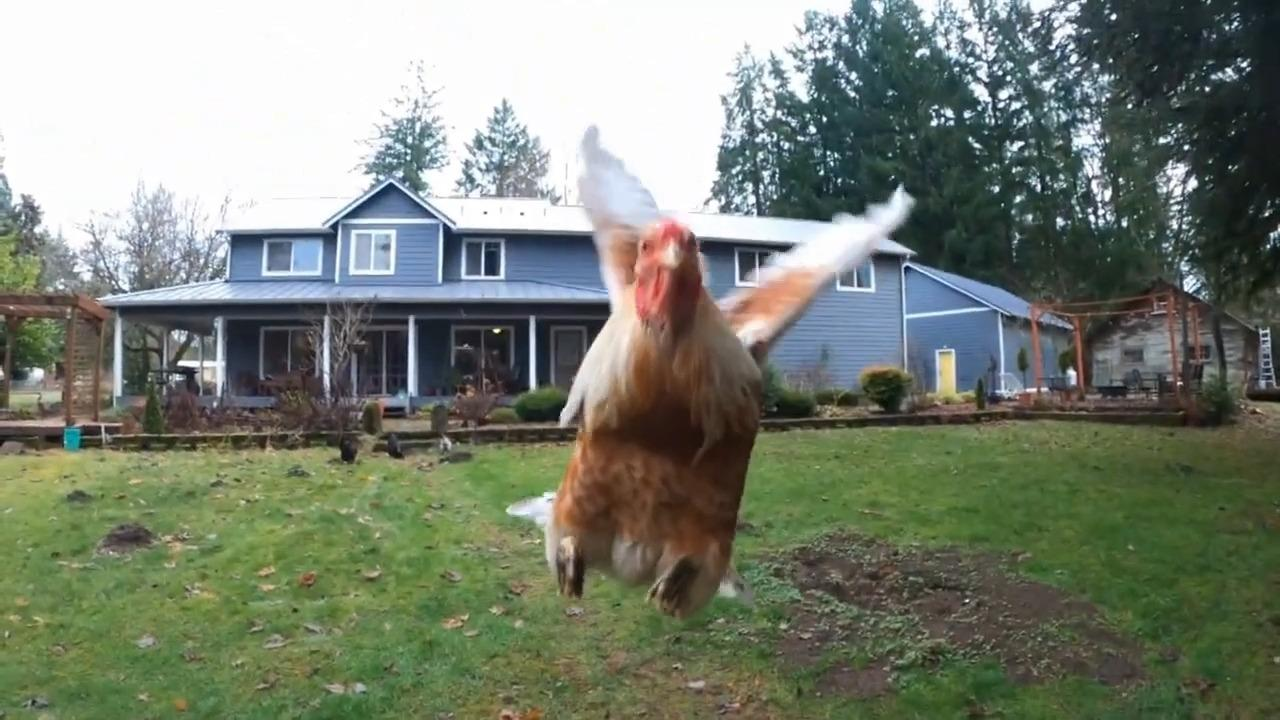Normal: (514, 126, 906, 606)
